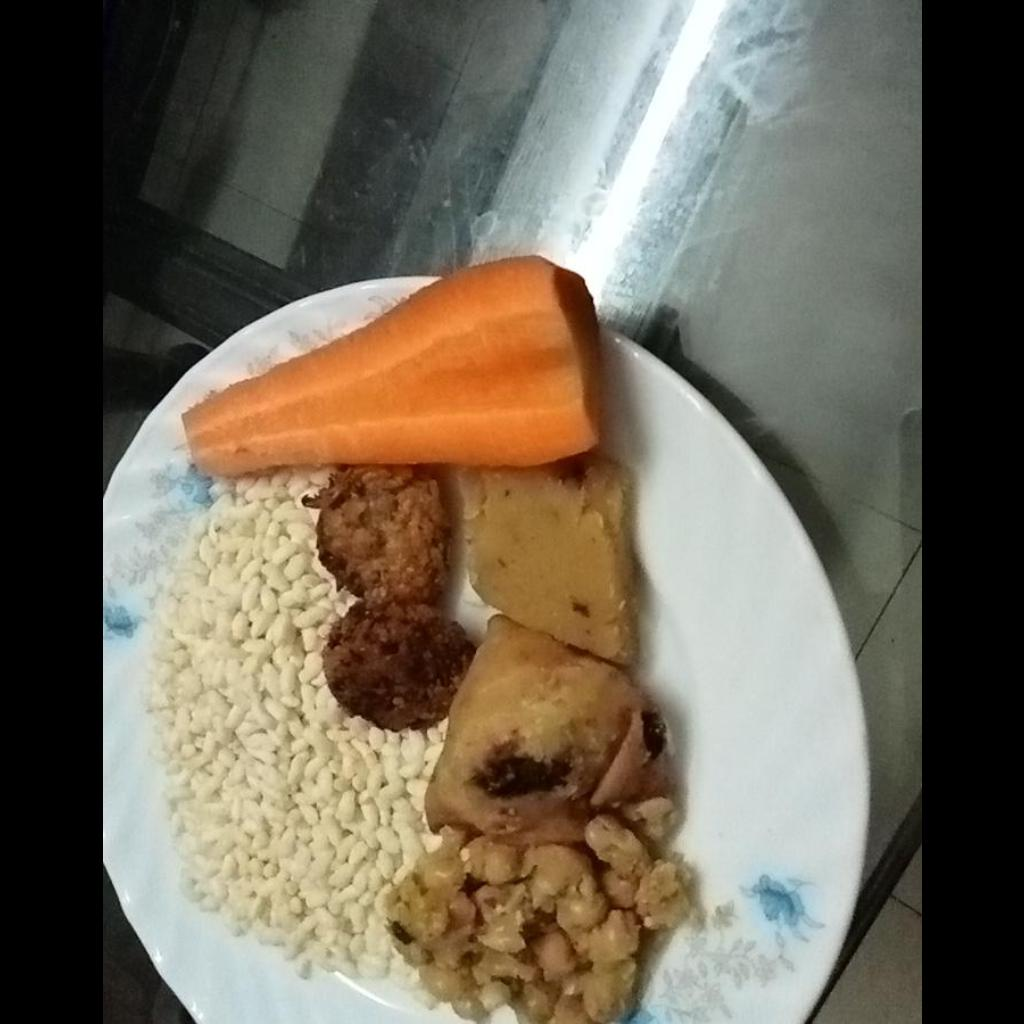carrot: (186, 255, 605, 474)
chola: (394, 796, 695, 1023)
peyaju: (305, 468, 472, 734)
puffed-rice: (132, 473, 433, 985)
puri: (424, 610, 648, 846)
sweets: (460, 475, 635, 666)
